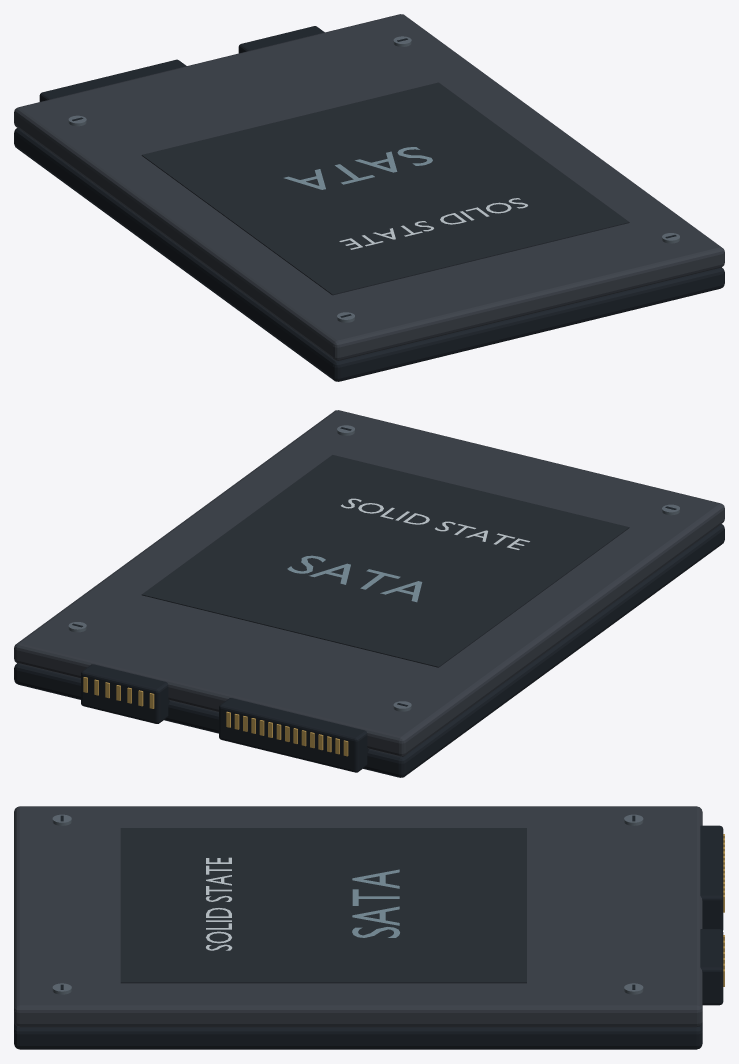
The model's file is ssd-sata.glb.
The picture shows the model from 3 angles, top to bottom: view 1: azimuth 30°, elevation 25°; view 2: azimuth 150°, elevation 25°; view 3: azimuth 270°, elevation 25°; orthographic projection. The views are drawn at different scales.
Visible parts, largest first — view 1: SSD_Paint_Graphite, SSD_Paint_Charcoal, SSD_Plastic_Black, SSD_Accent_Slate, SSD_Print_Silver, SSD_Metal_Dark_Steel; view 2: SSD_Paint_Graphite, SSD_Paint_Charcoal, SSD_Plastic_Black, SSD_Contact_Gold, SSD_Accent_Slate, SSD_Print_Silver, SSD_Metal_Dark_Steel; view 3: SSD_Paint_Graphite, SSD_Paint_Charcoal, SSD_Plastic_Black, SSD_Accent_Slate, SSD_Print_Silver, SSD_Metal_Dark_Steel.
Boxes of the visible parts, box(x1,y1,x2,y2) form: SSD_Paint_Graphite: box(14, 14, 724, 360); SSD_Paint_Charcoal: box(141, 82, 629, 295); SSD_Plastic_Black: box(14, 26, 724, 381); SSD_Accent_Slate: box(284, 147, 432, 189); SSD_Print_Silver: box(339, 198, 527, 249); SSD_Metal_Dark_Steel: box(68, 36, 679, 322); SSD_Paint_Graphite: box(14, 410, 724, 756); SSD_Paint_Charcoal: box(141, 455, 629, 667); SSD_Plastic_Black: box(14, 427, 724, 777); SSD_Contact_Gold: box(83, 677, 348, 756); SSD_Accent_Slate: box(287, 555, 422, 602); SSD_Print_Silver: box(341, 498, 529, 549); SSD_Metal_Dark_Steel: box(68, 425, 679, 711); SSD_Paint_Graphite: box(14, 806, 702, 1027); SSD_Paint_Charcoal: box(120, 828, 526, 983); SSD_Plastic_Black: box(14, 815, 723, 1049); SSD_Accent_Slate: box(352, 869, 399, 937); SSD_Print_Silver: box(206, 857, 232, 950); SSD_Metal_Dark_Steel: box(52, 814, 643, 994).
Bounding box in the file's own units: 0.0698 × 0.00757 × 0.1033.
